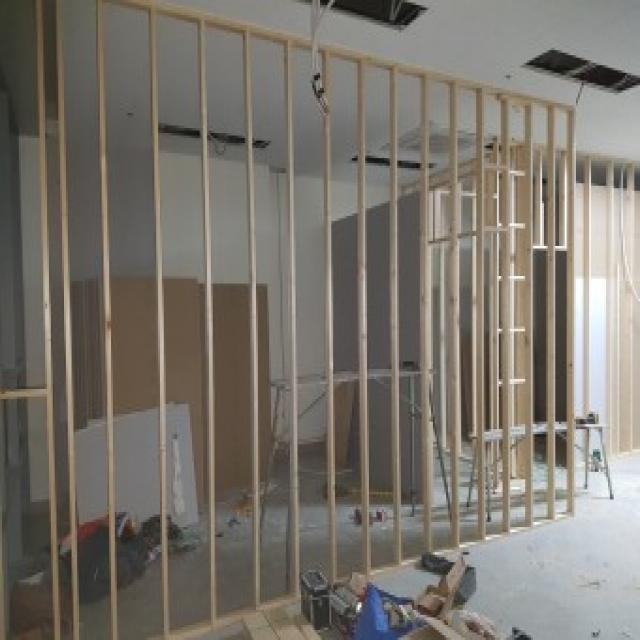stud: (0, 0, 576, 640), (110, 277, 205, 505), (581, 150, 640, 466), (76, 401, 200, 539), (198, 282, 271, 495)
